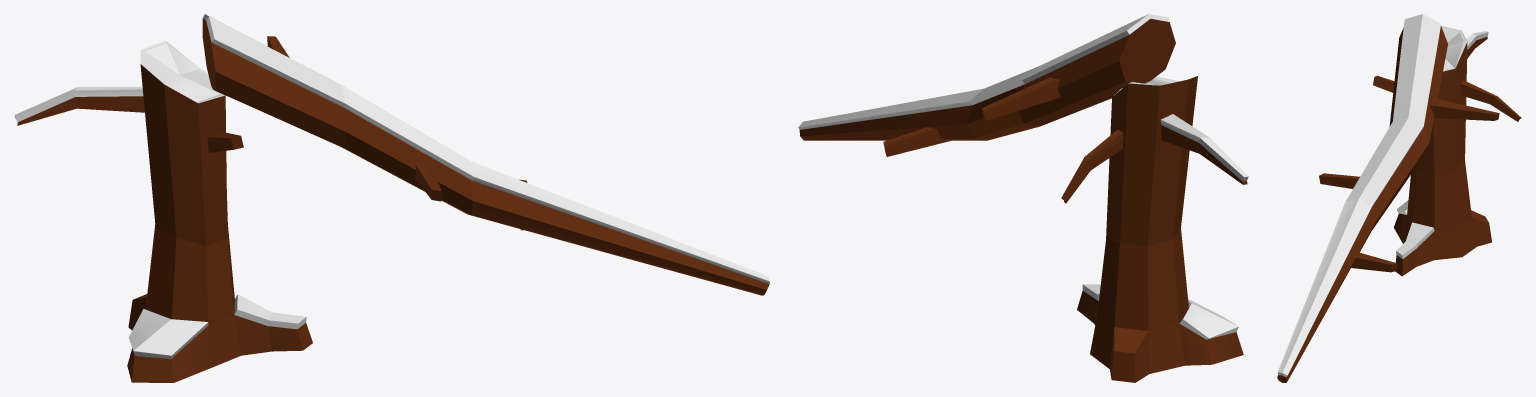
Rendered from Winter_011.fbx.
3 renders of one model, left to right at view 1: azimuth 30°, elevation 25°; view 2: azimuth 150°, elevation 25°; view 3: azimuth 270°, elevation 25°, orthographic. The views are drawn at different scales.
Parts seen in each view (by area): view 1: Winter_011; view 2: Winter_011; view 3: Winter_011.
Part boxes in pixels (x1,y1,x2,y2): Winter_011: (14,14,769,382); Winter_011: (798,14,1248,382); Winter_011: (1277,14,1521,382).
Bounding box in the file's own units: 4.57 × 2.42 × 2.31.
